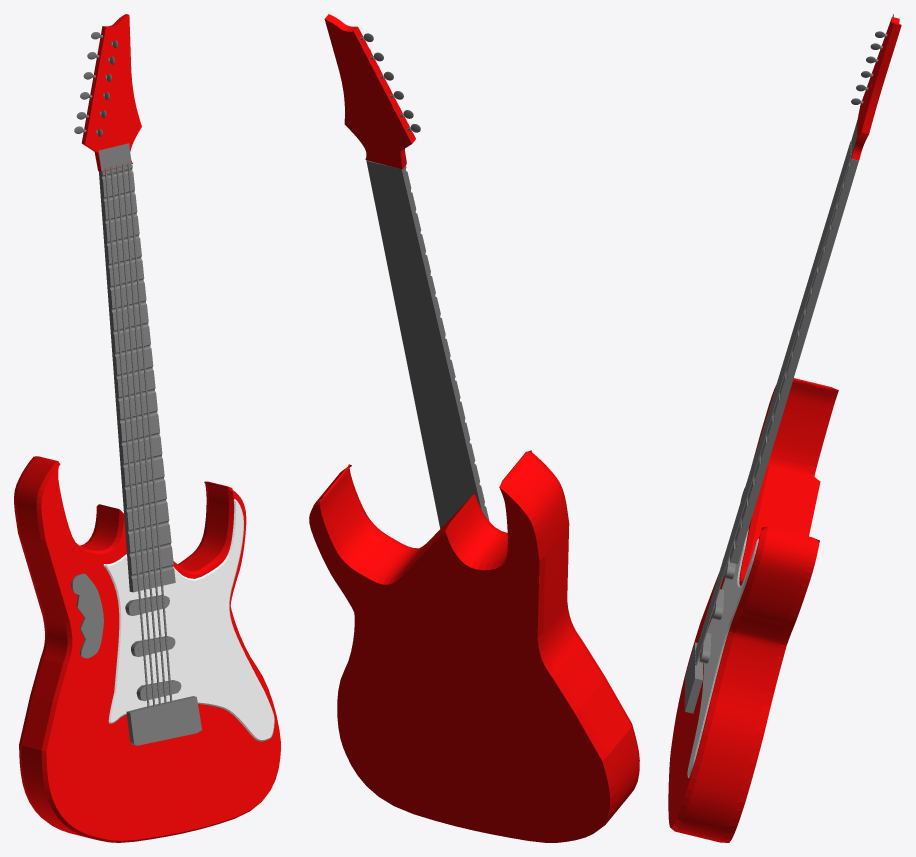
File: Guitarra.fbx
The picture shows the model from 3 angles, left to right: view 1: azimuth 30°, elevation 25°; view 2: azimuth 150°, elevation 25°; view 3: azimuth 270°, elevation 25°; orthographic projection. The views are drawn at different scales.
Visible parts, largest first — view 1: Line10; view 2: Line10; view 3: Line10.
Boxes of the visible parts, <box> form: Line10: <box>14,14,280,842</box>; Line10: <box>309,14,639,842</box>; Line10: <box>668,14,901,842</box>.
Size of the model in its own units: 0.6762 by 2.04 by 0.5311.
